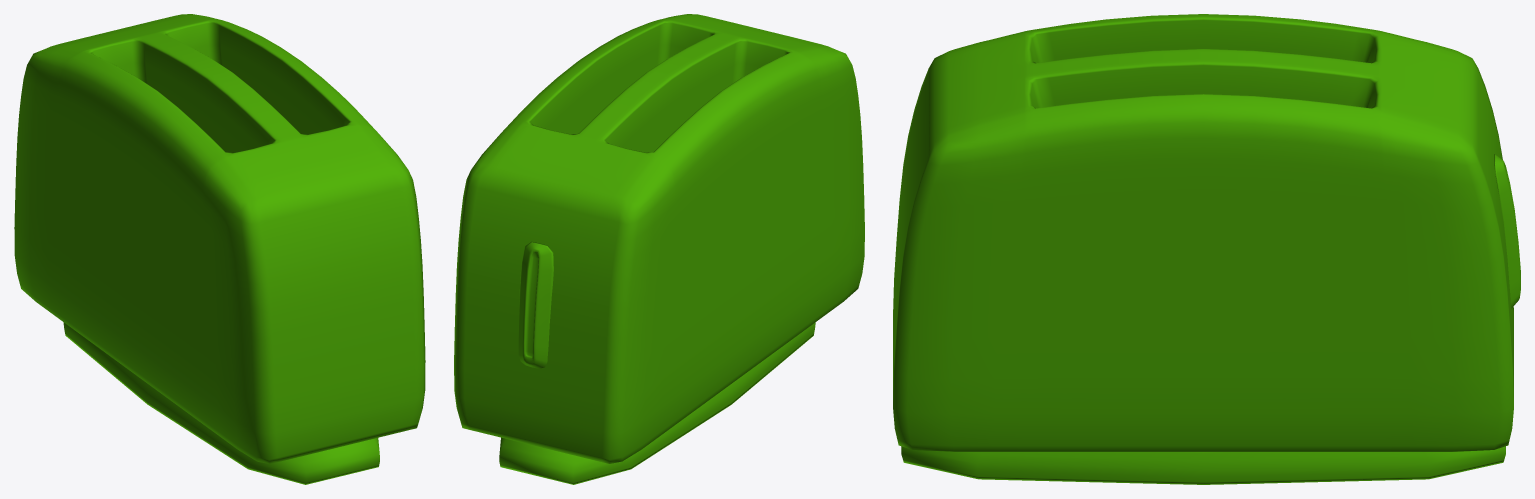
File: Toaster.fbx
The picture shows the model from 3 angles, left to right: view 1: azimuth 30°, elevation 25°; view 2: azimuth 150°, elevation 25°; view 3: azimuth 270°, elevation 25°; orthographic projection. The views are drawn at different scales.
Visible parts, largest first — view 1: Toaster; view 2: Toaster; view 3: Toaster.
Boxes of the visible parts, x1,y1,x2,y2 form: Toaster: (14, 14, 425, 484); Toaster: (454, 14, 864, 484); Toaster: (893, 14, 1520, 484).
Bounding box in the file's own units: 75.04 × 126 × 185.
